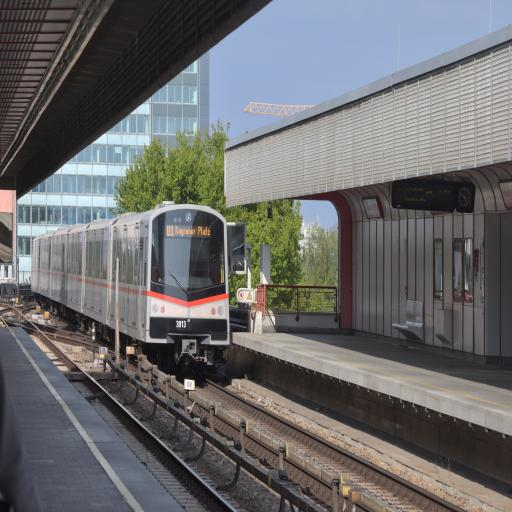V-Wagen: (32, 206, 230, 350)
